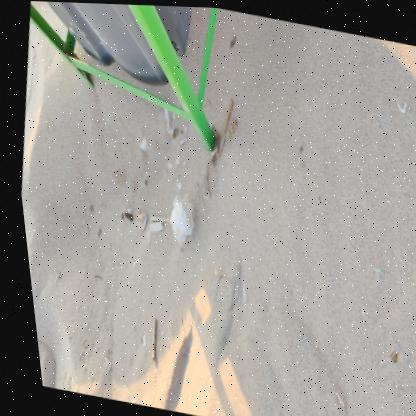Plastic: (164, 190, 189, 249)
